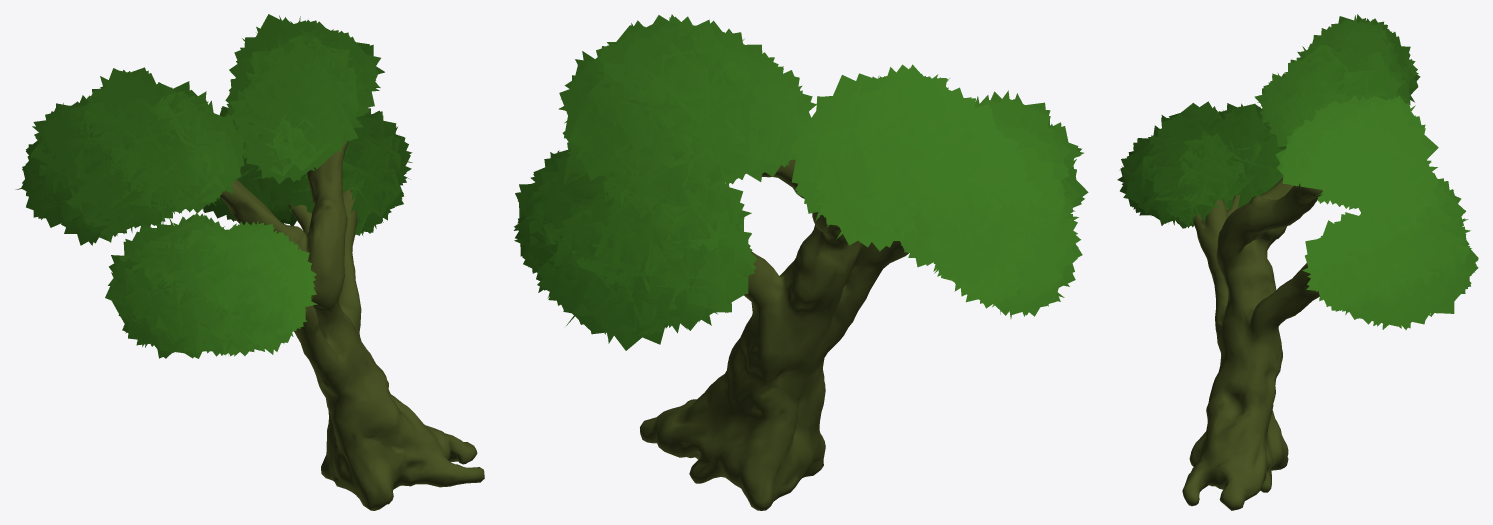
Rendered from SM_hometree_01.fbx.
3 views of the same model, side by side, from view 1: azimuth 30°, elevation 25°; view 2: azimuth 150°, elevation 25°; view 3: azimuth 270°, elevation 25° (orthographic). The views are drawn at different scales.
Visible parts, largest first — view 1: leaves_01, trunk_01; view 2: leaves_01, trunk_01; view 3: leaves_01, trunk_01.
Boxes of the visible parts, box(x1,y1,x2,y2) form: leaves_01: box(15, 14, 412, 358); trunk_01: box(220, 140, 484, 510); leaves_01: box(514, 14, 1088, 350); trunk_01: box(640, 159, 909, 510); leaves_01: box(1117, 14, 1478, 329); trunk_01: box(1182, 178, 1322, 510).
Bounding box in the file's own units: 5555 × 5714 × 4951.
